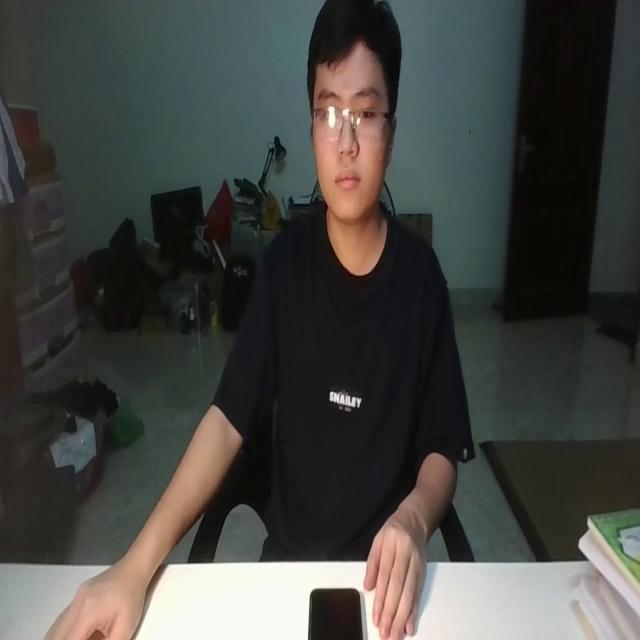phone: (306, 586, 366, 640)
student: (61, 2, 477, 640)
